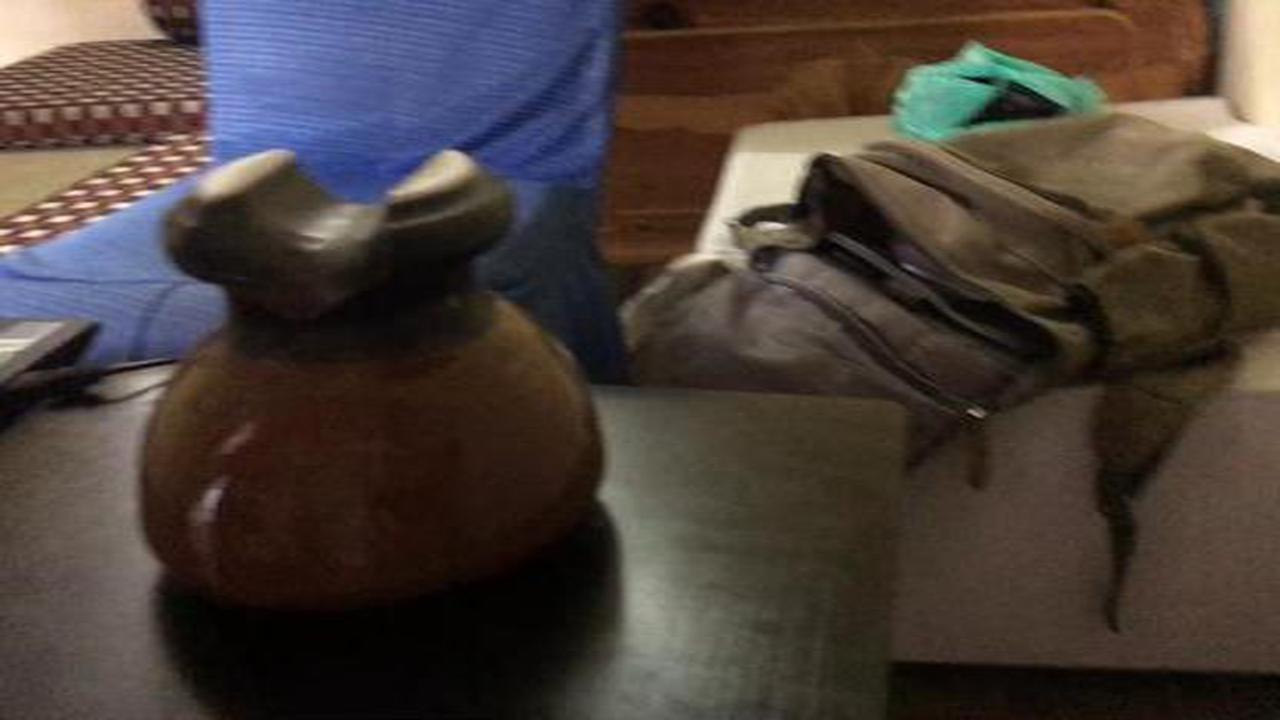insulator_pin: (114, 132, 631, 641)
